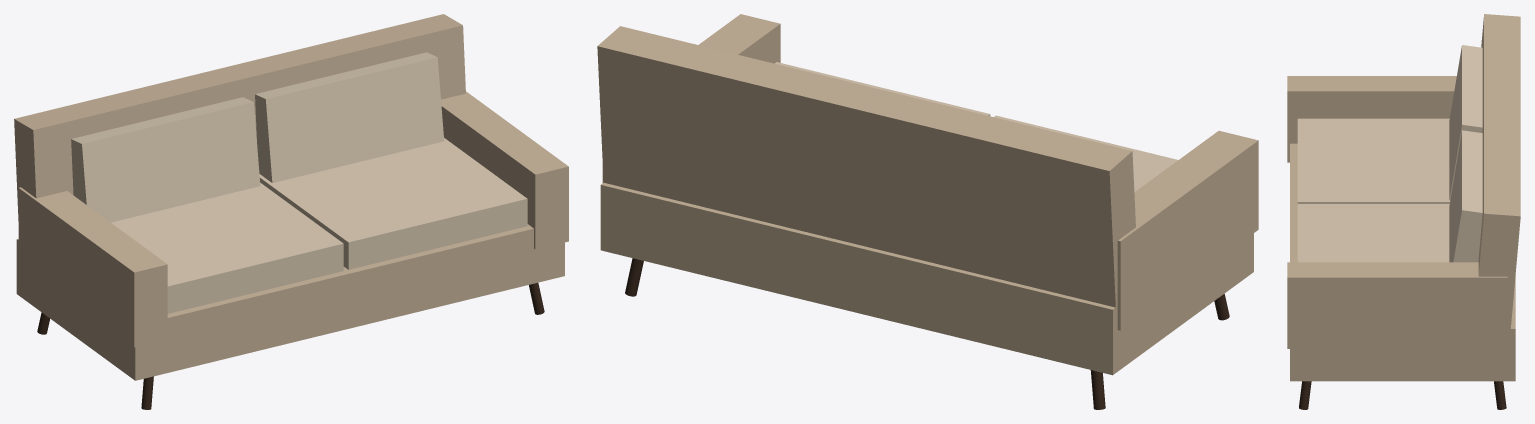
File: lounge-sofa.fbx
The picture shows the model from 3 angles, left to right: view 1: azimuth 30°, elevation 25°; view 2: azimuth 150°, elevation 25°; view 3: azimuth 270°, elevation 25°; orthographic projection. The views are drawn at different scales.
Visible parts, largest first — view 1: sofa_body, cushions, legs; view 2: sofa_body, cushions, legs; view 3: sofa_body, cushions, legs.
Boxes of the visible parts, x1,y1,x2,y2 form: sofa_body: (14,14,568,380); cushions: (71,52,527,313); legs: (37,282,544,409); sofa_body: (597,14,1258,375); cushions: (775,62,1177,191); legs: (625,258,1229,409); sofa_body: (1287,14,1520,381); cushions: (1297,45,1482,262); legs: (1299,381,1506,409).
Size of the model in its own units: 182 by 85.83 by 88.98.
